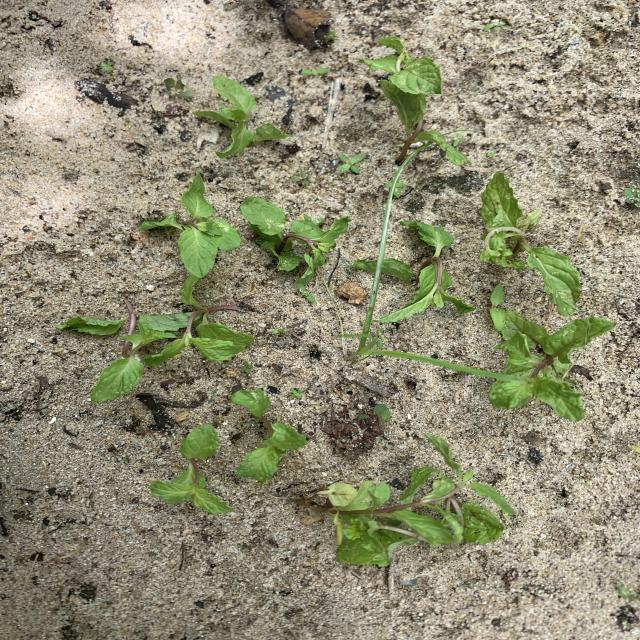crop: (318, 433, 513, 565), (58, 275, 250, 400), (481, 172, 579, 315), (489, 310, 613, 419), (359, 38, 467, 163), (140, 172, 239, 278), (241, 197, 348, 286), (385, 223, 471, 318), (194, 76, 288, 155), (150, 425, 230, 512), (232, 388, 305, 483)
weed: (343, 159, 507, 379), (490, 284, 505, 330), (359, 403, 391, 424), (165, 79, 193, 99), (337, 154, 363, 172), (619, 585, 639, 600), (300, 67, 329, 77), (624, 188, 639, 206), (300, 286, 315, 303), (292, 171, 310, 184), (484, 21, 505, 31), (325, 30, 336, 42), (100, 62, 114, 71), (290, 388, 301, 398), (241, 362, 252, 371), (272, 329, 283, 334)
